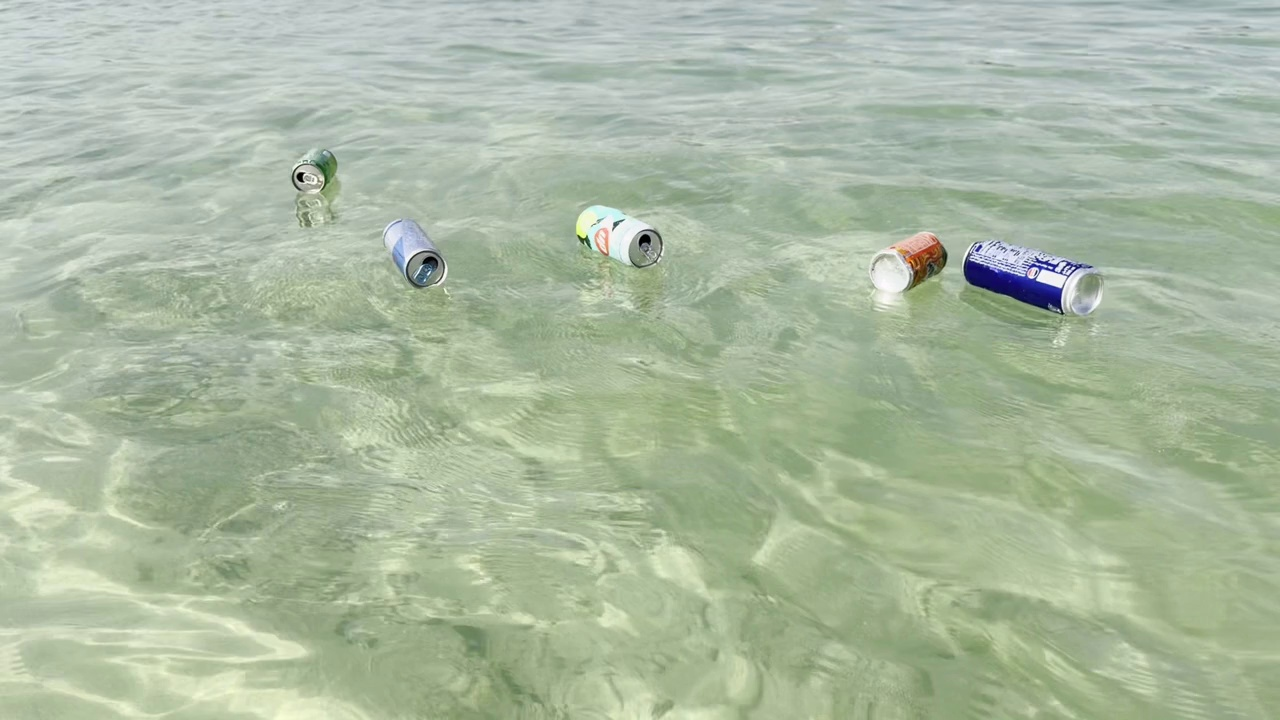debris: (954, 236, 1110, 323), (565, 197, 668, 273), (862, 220, 955, 300), (375, 209, 451, 297), (291, 142, 344, 199)
